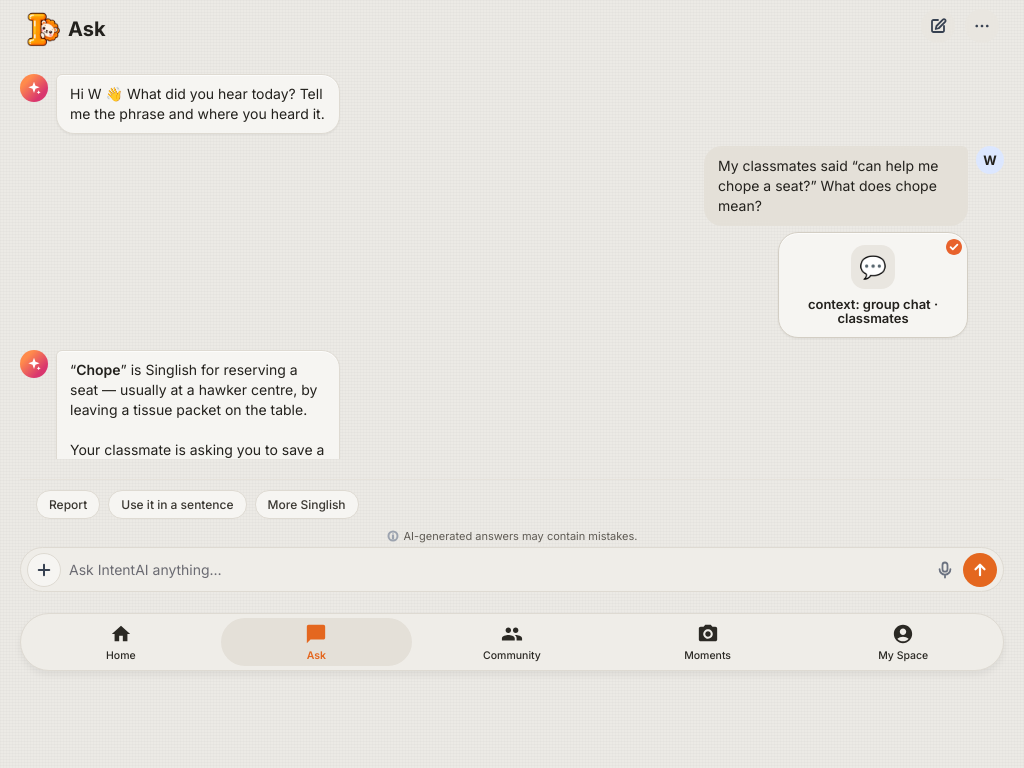
Choose context sets where the next phrase was heard, and the answer uses it
Step 1. Click the button named "Choose context" → (44, 570), box [27,552,61,586]
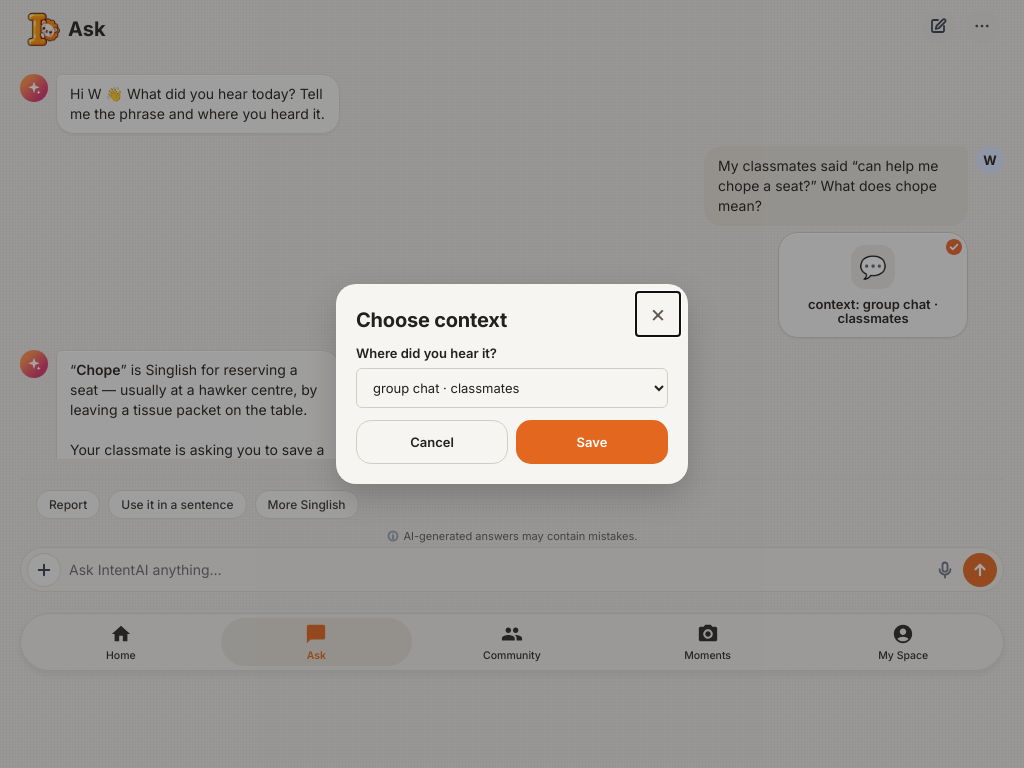
Step 2. Select "Office · work" in the dropdown labelled "Where did you hear it?" → (512, 388), box [356,368,668,408]
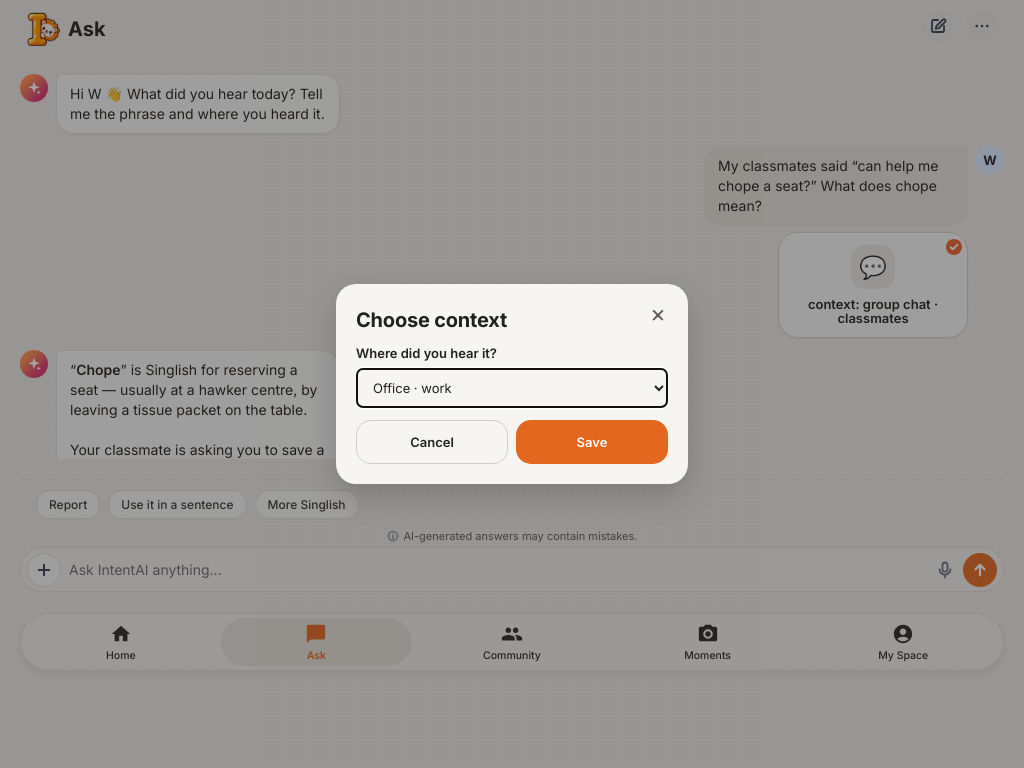
Step 3. Click the button "Save" → (592, 442), box [516,420,668,464]
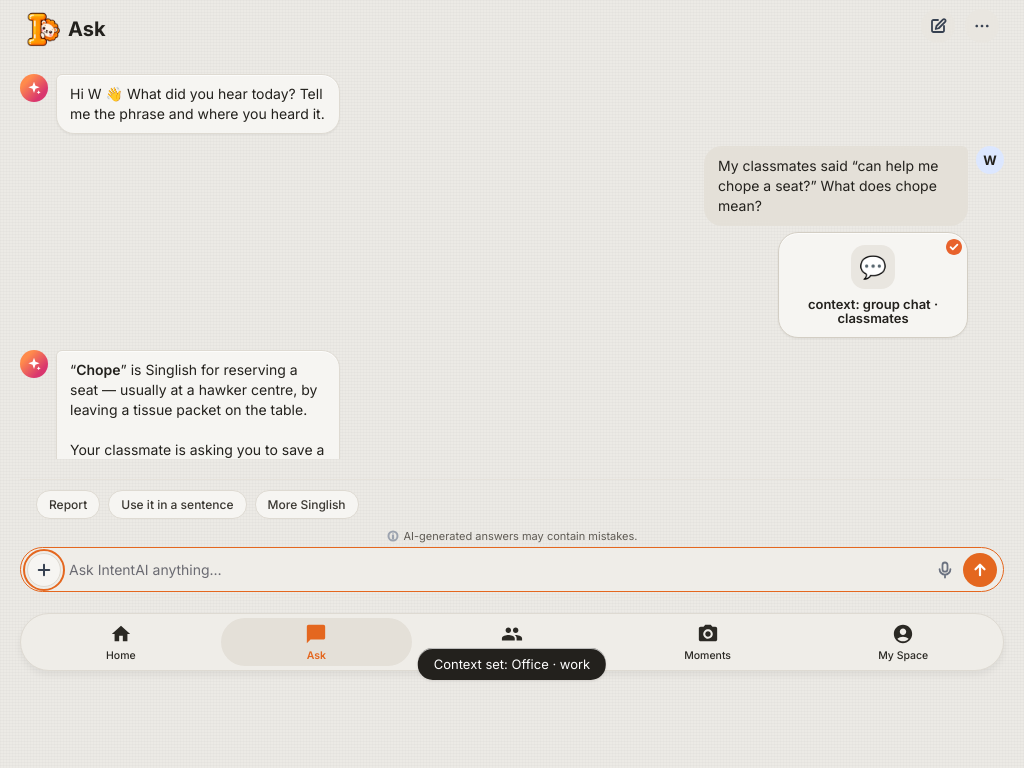
Step 4. Type "What does paiseh mean?" into the field labelled "Ask IntentAI anything…" → (498, 570), box [69,548,927,591]
Then press Enter
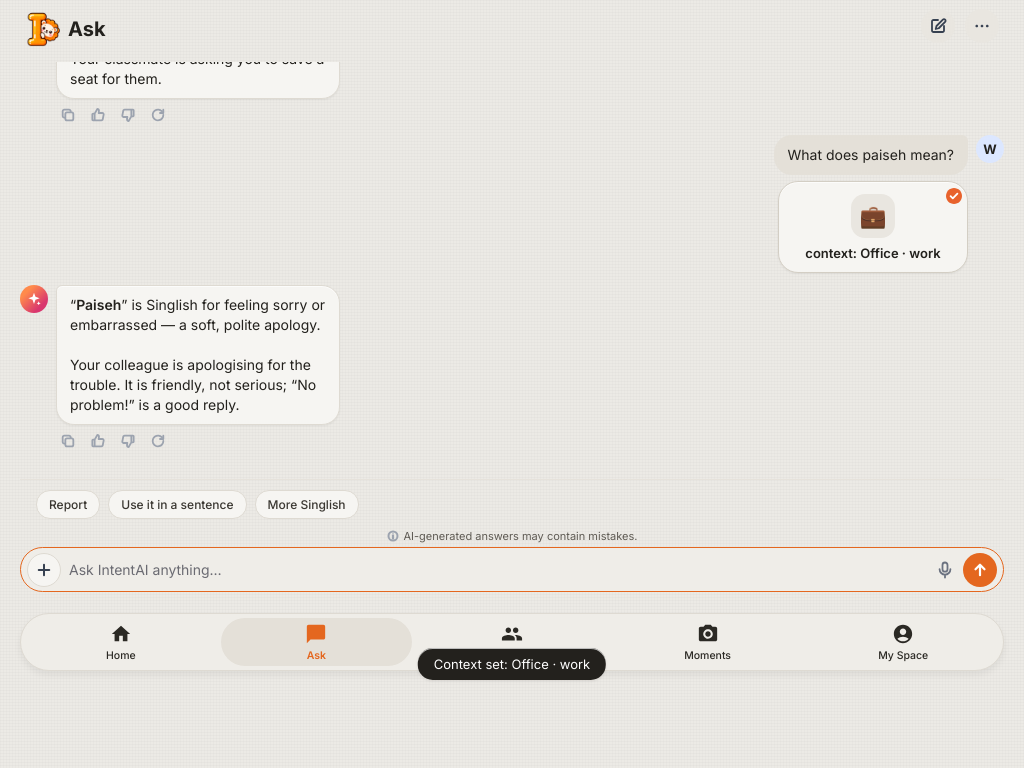
Expected: the button "💼 context: Office · work" is shown, [778,181,968,273]
Expected: the element named "IntentAI answer" shows "Your colleague is apologising", [70,356,316,413]
